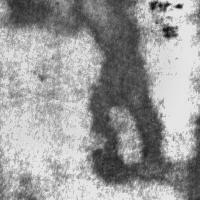patches: (8, 0, 166, 142), (70, 6, 166, 190), (0, 7, 93, 137), (1, 1, 61, 29), (175, 134, 200, 200)
